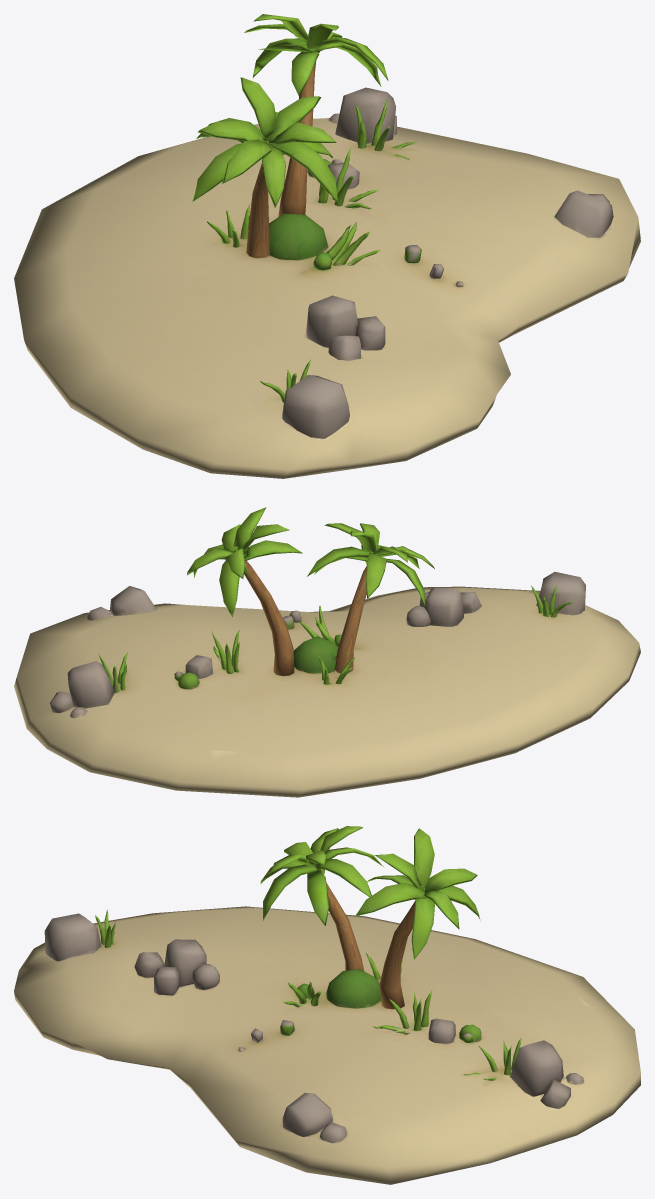
Rendered from IslandShallow.glb.
3 views of the same model, one above another, from view 1: azimuth 30°, elevation 25°; view 2: azimuth 150°, elevation 25°; view 3: azimuth 270°, elevation 25° (orthographic). The views are drawn at different scales.
Visible parts, largest first — view 1: world; view 2: world; view 3: world.
Part boxes in pixels (x1,y1,x2,y2): world: (14, 14, 640, 478); world: (14, 507, 640, 797); world: (14, 826, 640, 1184).
Bounding box in the file's own units: 584 × 220 × 589.
1 material, 1 textured.
